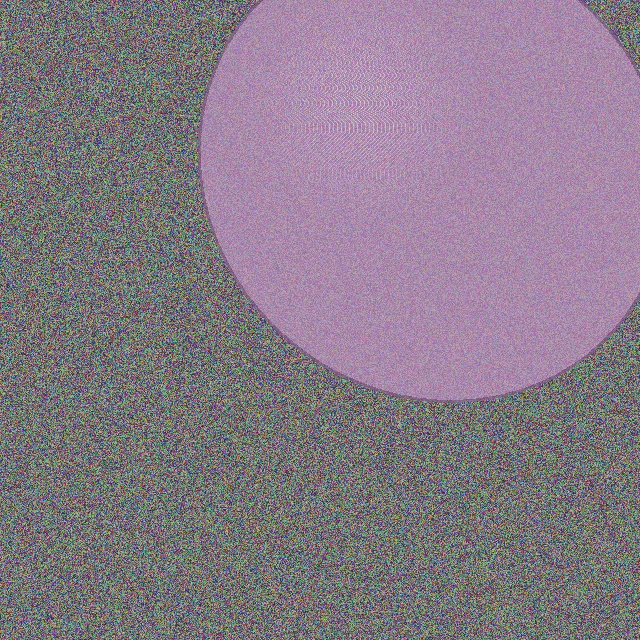lens: (200, 0, 640, 401)
